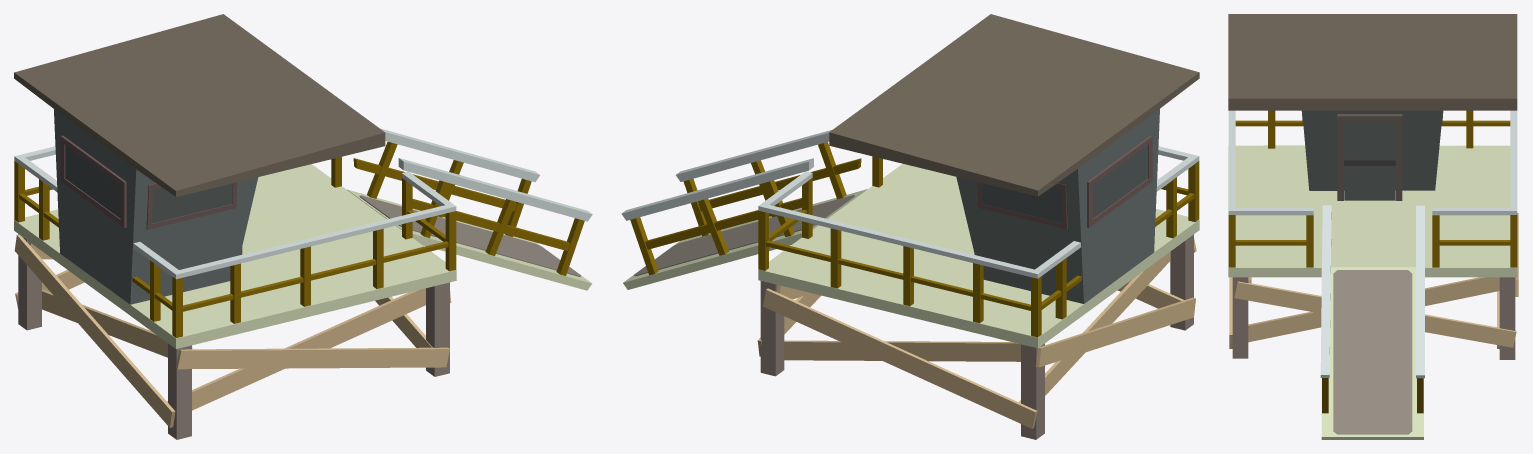
The model's file is BeachHutuvtest2.fbx.
The picture shows the model from 3 angles, left to right: view 1: azimuth 30°, elevation 25°; view 2: azimuth 150°, elevation 25°; view 3: azimuth 270°, elevation 25°; orthographic projection. The views are drawn at different scales.
Visible parts, largest first — view 1: Floor2; view 2: Floor2; view 3: Floor2.
Boxes of the visible parts, <box> form: Floor2: <box>14,14,592,439</box>; Floor2: <box>621,14,1199,439</box>; Floor2: <box>1228,14,1518,439</box>.
Bounding box in the file's own units: 174 × 91.13 × 104.
